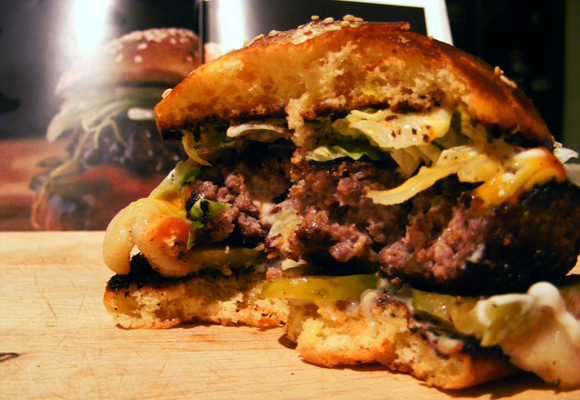hamburger_buns: (142, 21, 566, 154)
